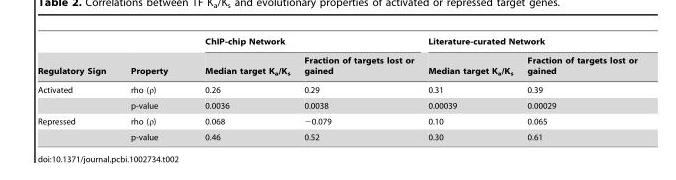table: (37, 36, 636, 141)
table column: (296, 36, 420, 141), (519, 36, 636, 141), (185, 36, 296, 141), (420, 36, 519, 141), (37, 36, 117, 141), (117, 36, 185, 141)
table column header: (37, 36, 636, 80)
table row: (37, 50, 636, 80), (37, 80, 636, 97), (37, 97, 636, 113), (37, 113, 636, 129), (37, 36, 636, 50), (37, 129, 636, 141)
table spanning cell: (37, 36, 117, 80), (185, 36, 420, 50), (420, 36, 636, 50), (117, 36, 185, 80), (37, 80, 117, 113), (37, 113, 117, 141)
